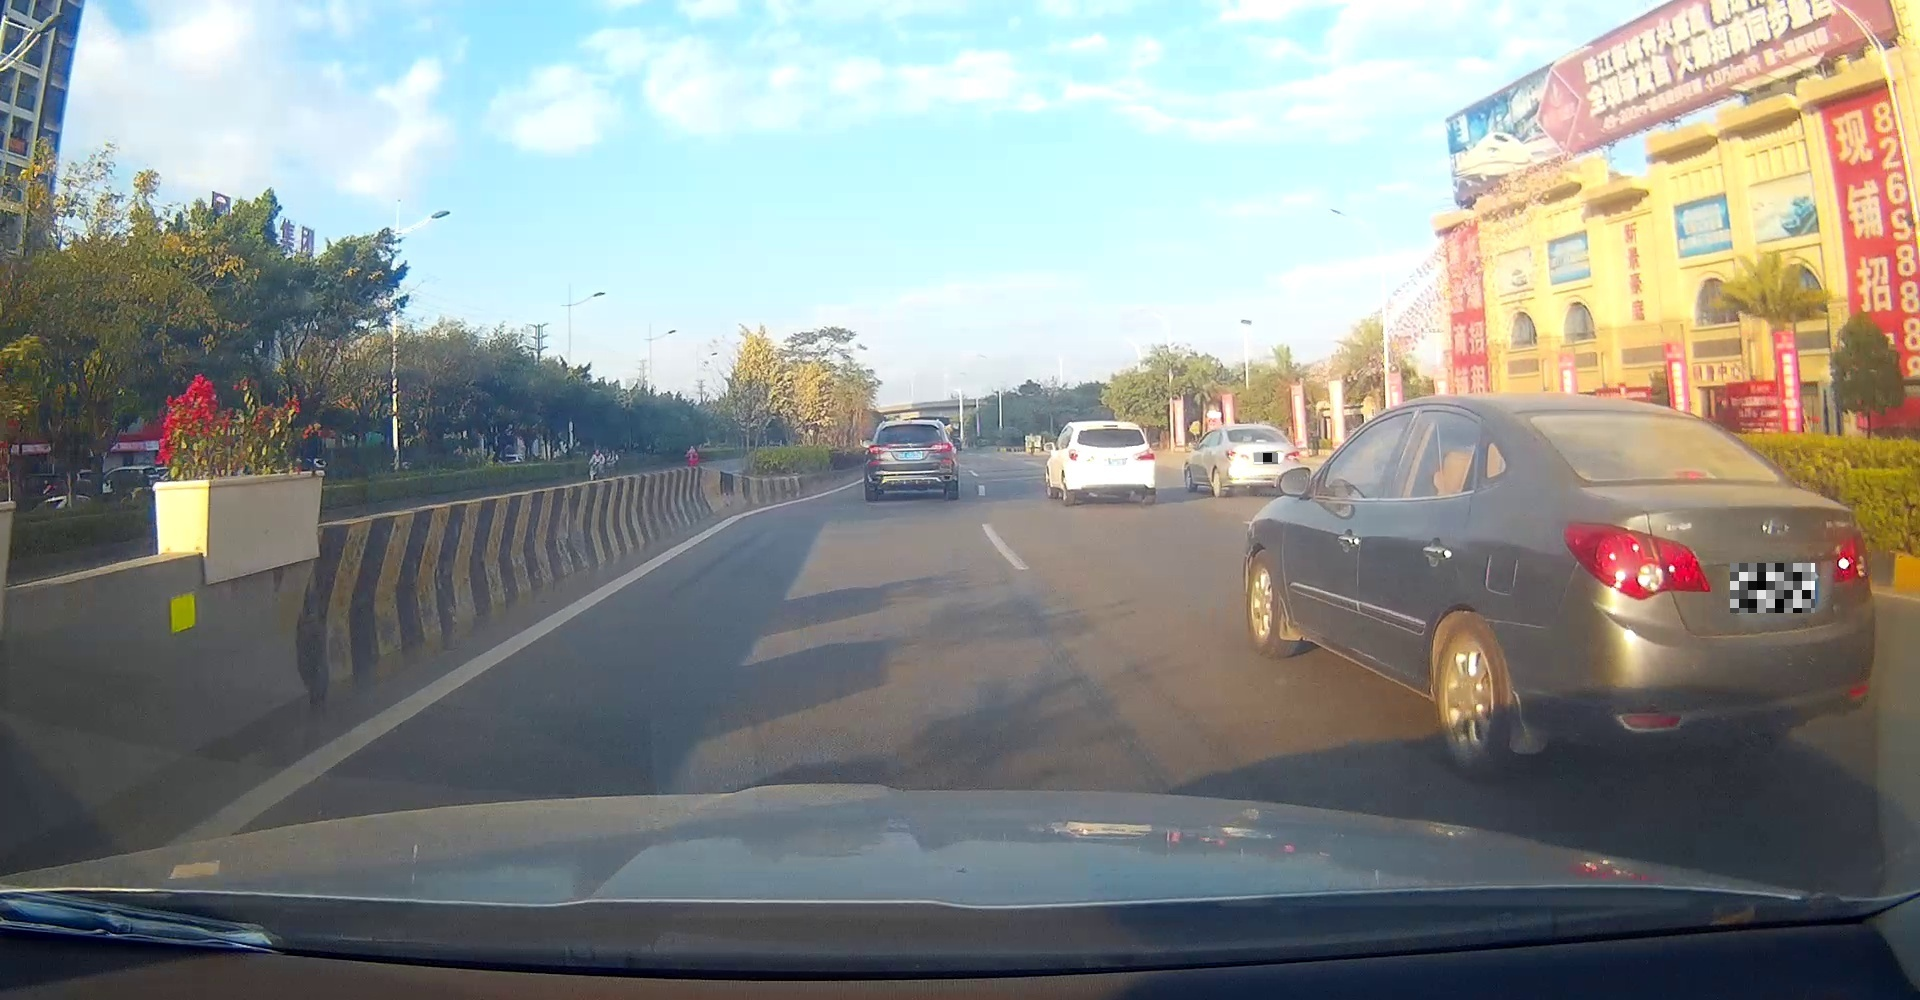L_light: (1562, 520, 1710, 600), (1068, 448, 1093, 462), (1225, 451, 1250, 462), (869, 444, 889, 453)
R_light: (1831, 530, 1870, 582), (1133, 447, 1156, 461), (930, 442, 952, 452), (1285, 451, 1302, 461)
T_light: (1672, 468, 1710, 480), (1102, 424, 1119, 429), (1255, 439, 1269, 444), (905, 423, 918, 426)
day-no: (1501, 395, 1876, 778), (863, 420, 959, 503), (1065, 421, 1156, 504), (1222, 426, 1302, 497)
plate_1: (1255, 453, 1277, 464)
plate_2: (1730, 563, 1815, 613)
